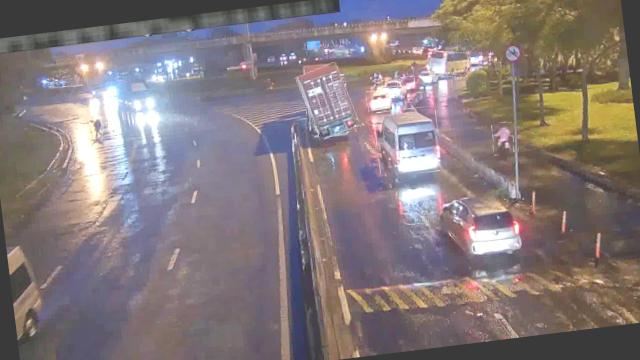Bike: (490, 122, 515, 156), (85, 115, 105, 143)
Bus: (372, 104, 443, 178), (428, 48, 470, 80)
Car: (436, 186, 522, 260), (364, 87, 392, 113), (378, 78, 404, 98), (398, 74, 424, 94), (413, 65, 437, 84)
Truck: (298, 62, 356, 139)
